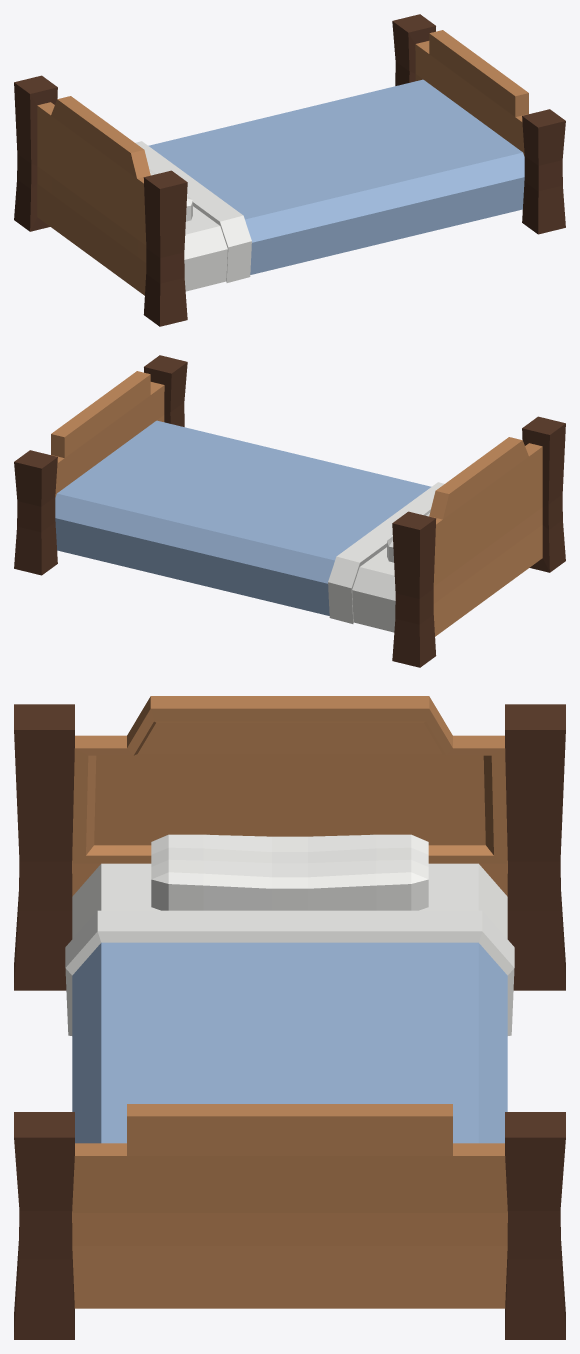
File: Bed.glb
3 views of the same model, one above another, from view 1: azimuth 30°, elevation 25°; view 2: azimuth 150°, elevation 25°; view 3: azimuth 270°, elevation 25° (orthographic). The views are drawn at different scales.
Bounding box in the file's own units: 1.43 × 0.4898 × 0.8898.
